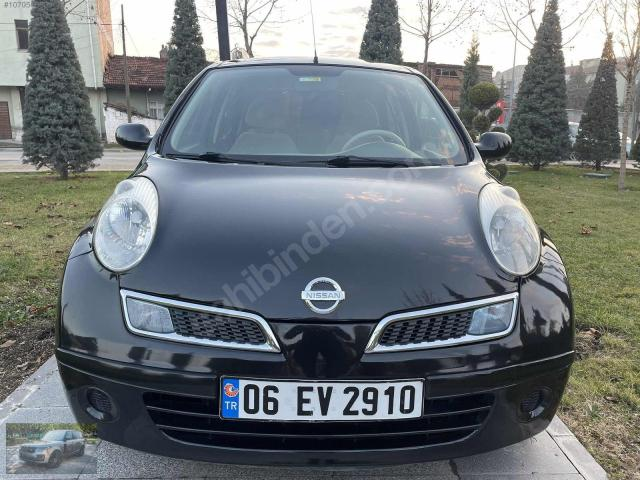plaka: (221, 378, 424, 421)
